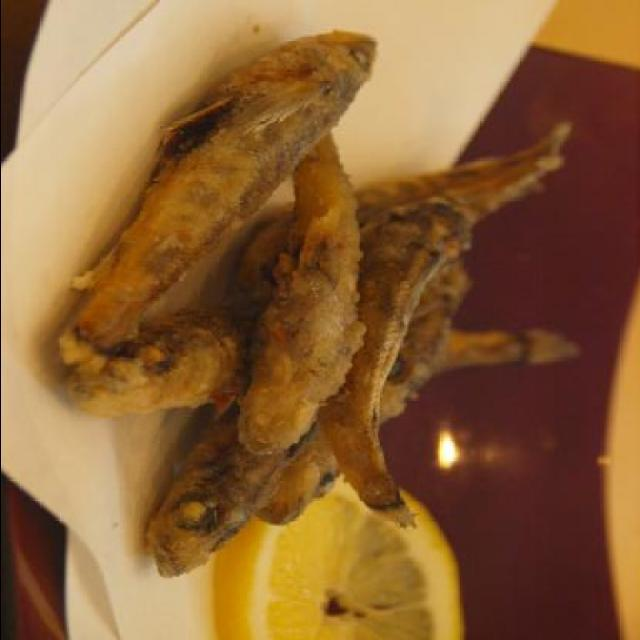Lemon: (214, 473, 468, 639)
